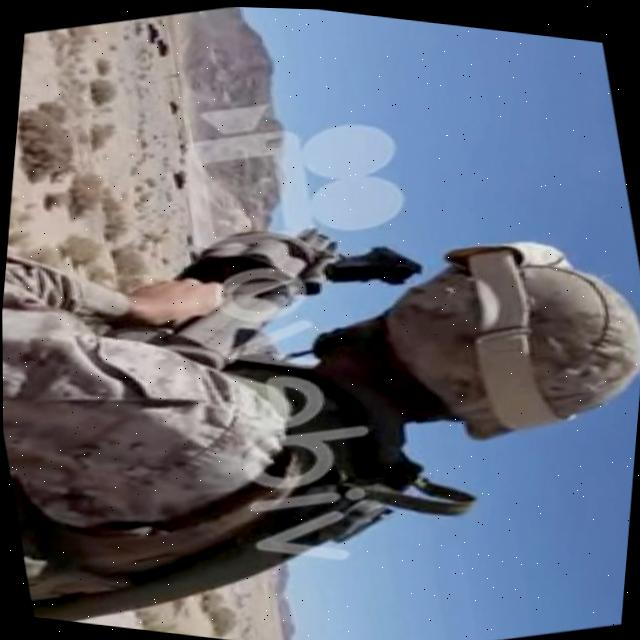rocket: (115, 180, 434, 407)
